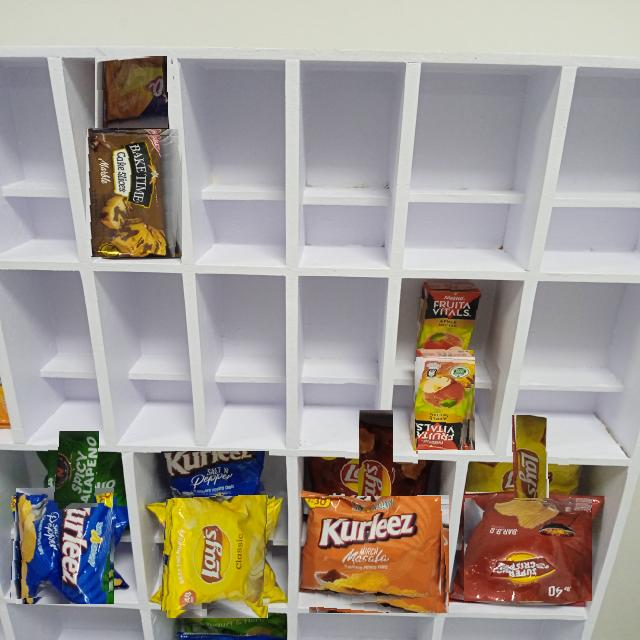Plastic: (308, 494, 449, 613), (308, 496, 441, 607), (159, 495, 275, 611), (464, 497, 592, 601), (86, 128, 182, 257), (11, 493, 118, 600), (334, 435, 418, 519), (489, 438, 569, 519), (415, 356, 475, 450), (154, 451, 269, 499), (95, 56, 168, 128), (417, 280, 487, 350), (48, 442, 110, 504)
